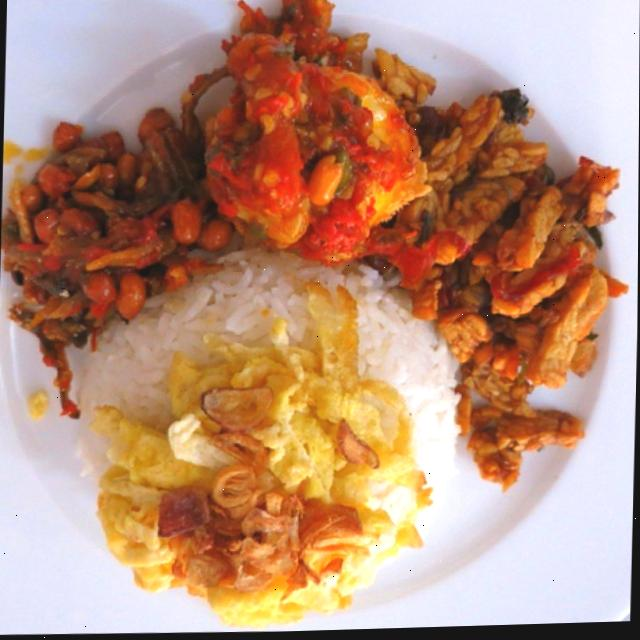米饭主食: (0, 0, 617, 636)
